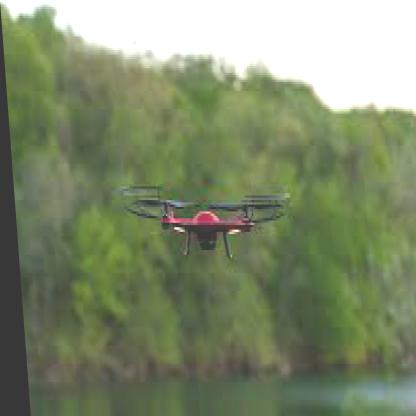UAS: (120, 184, 283, 258)
